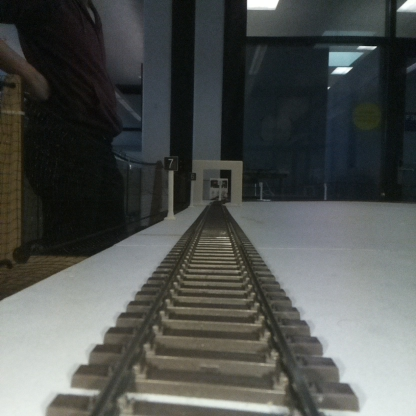black-info-7: (164, 156, 177, 219)
